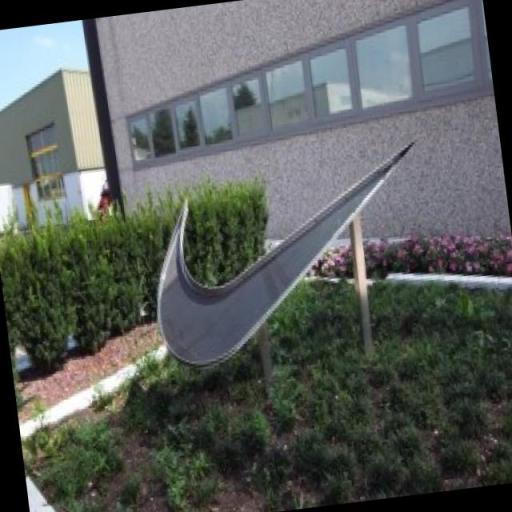Nike: (120, 134, 450, 393)
